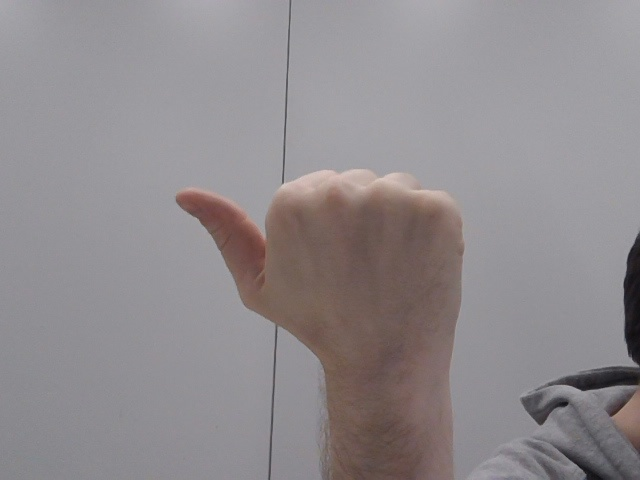right: (153, 152, 512, 376)
